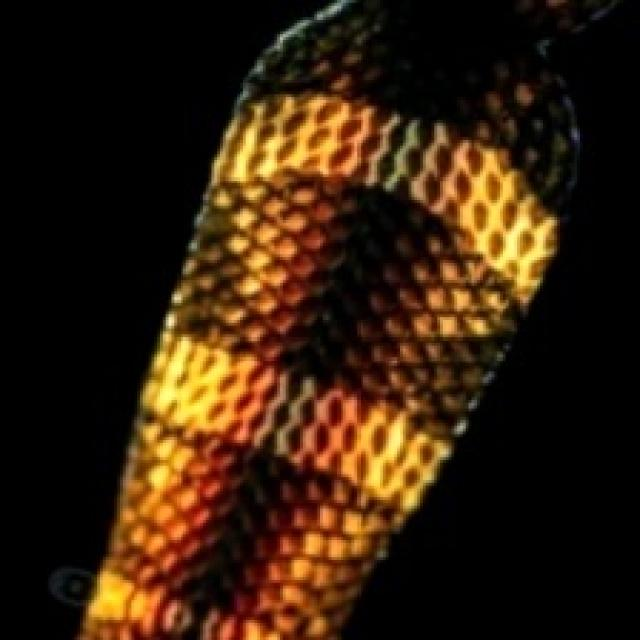king cobra: (0, 0, 326, 637), (343, 0, 637, 637)
